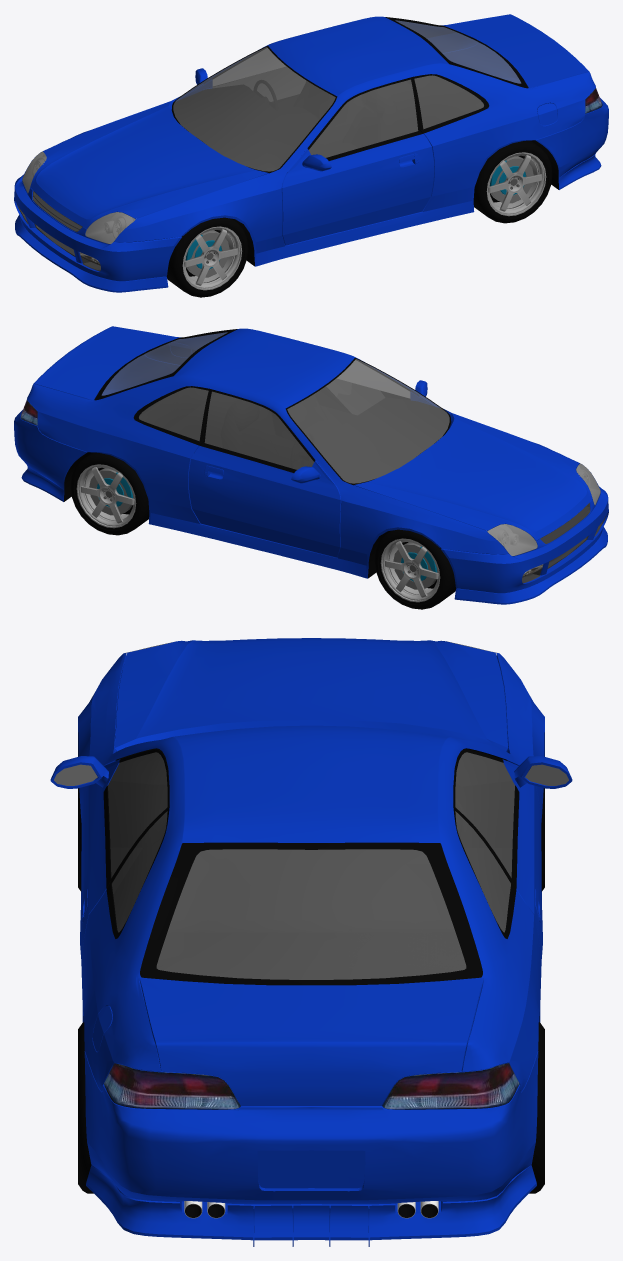
The model's file is honda_prelude_1997.glb.
3 renders of one model, top to bottom at view 1: azimuth 30°, elevation 25°; view 2: azimuth 150°, elevation 25°; view 3: azimuth 270°, elevation 25°, orthographic. The views are drawn at different scales.
Visible parts, largest first — view 1: body, Cylinder_Material.001_0.001, Cylinder_Material.001_0, Object_5_leather_black.001_0, mirrors; view 2: body, Cylinder_Material.001_0.001, Cylinder_Material.001_0, Object_5_leather_black.001_0, mirrors; view 3: body, body.002, mirrors, Cylinder_Material.001_0.001.
Part boxes in pixels (x1,y1,x2,y2): body: (14,14,608,292); Cylinder_Material.001_0.001: (473,140,552,223); Cylinder_Material.001_0: (167,217,248,297); Object_5_leather_black.001_0: (293,81,398,147); mirrors: (195,68,331,171); body: (14,326,608,604); Cylinder_Material.001_0.001: (70,452,149,535); Cylinder_Material.001_0: (374,529,455,609); Object_5_leather_black.001_0: (221,394,327,459); mirrors: (291,380,427,483); body: (78,638,544,1246); body.002: (104,1063,519,1109); mirrors: (50,756,572,788); Cylinder_Material.001_0.001: (78,1022,544,1193).
Bounding box in the file's own units: 3.01 × 0.8489 × 1.28.
18 materials, 2 textured.
